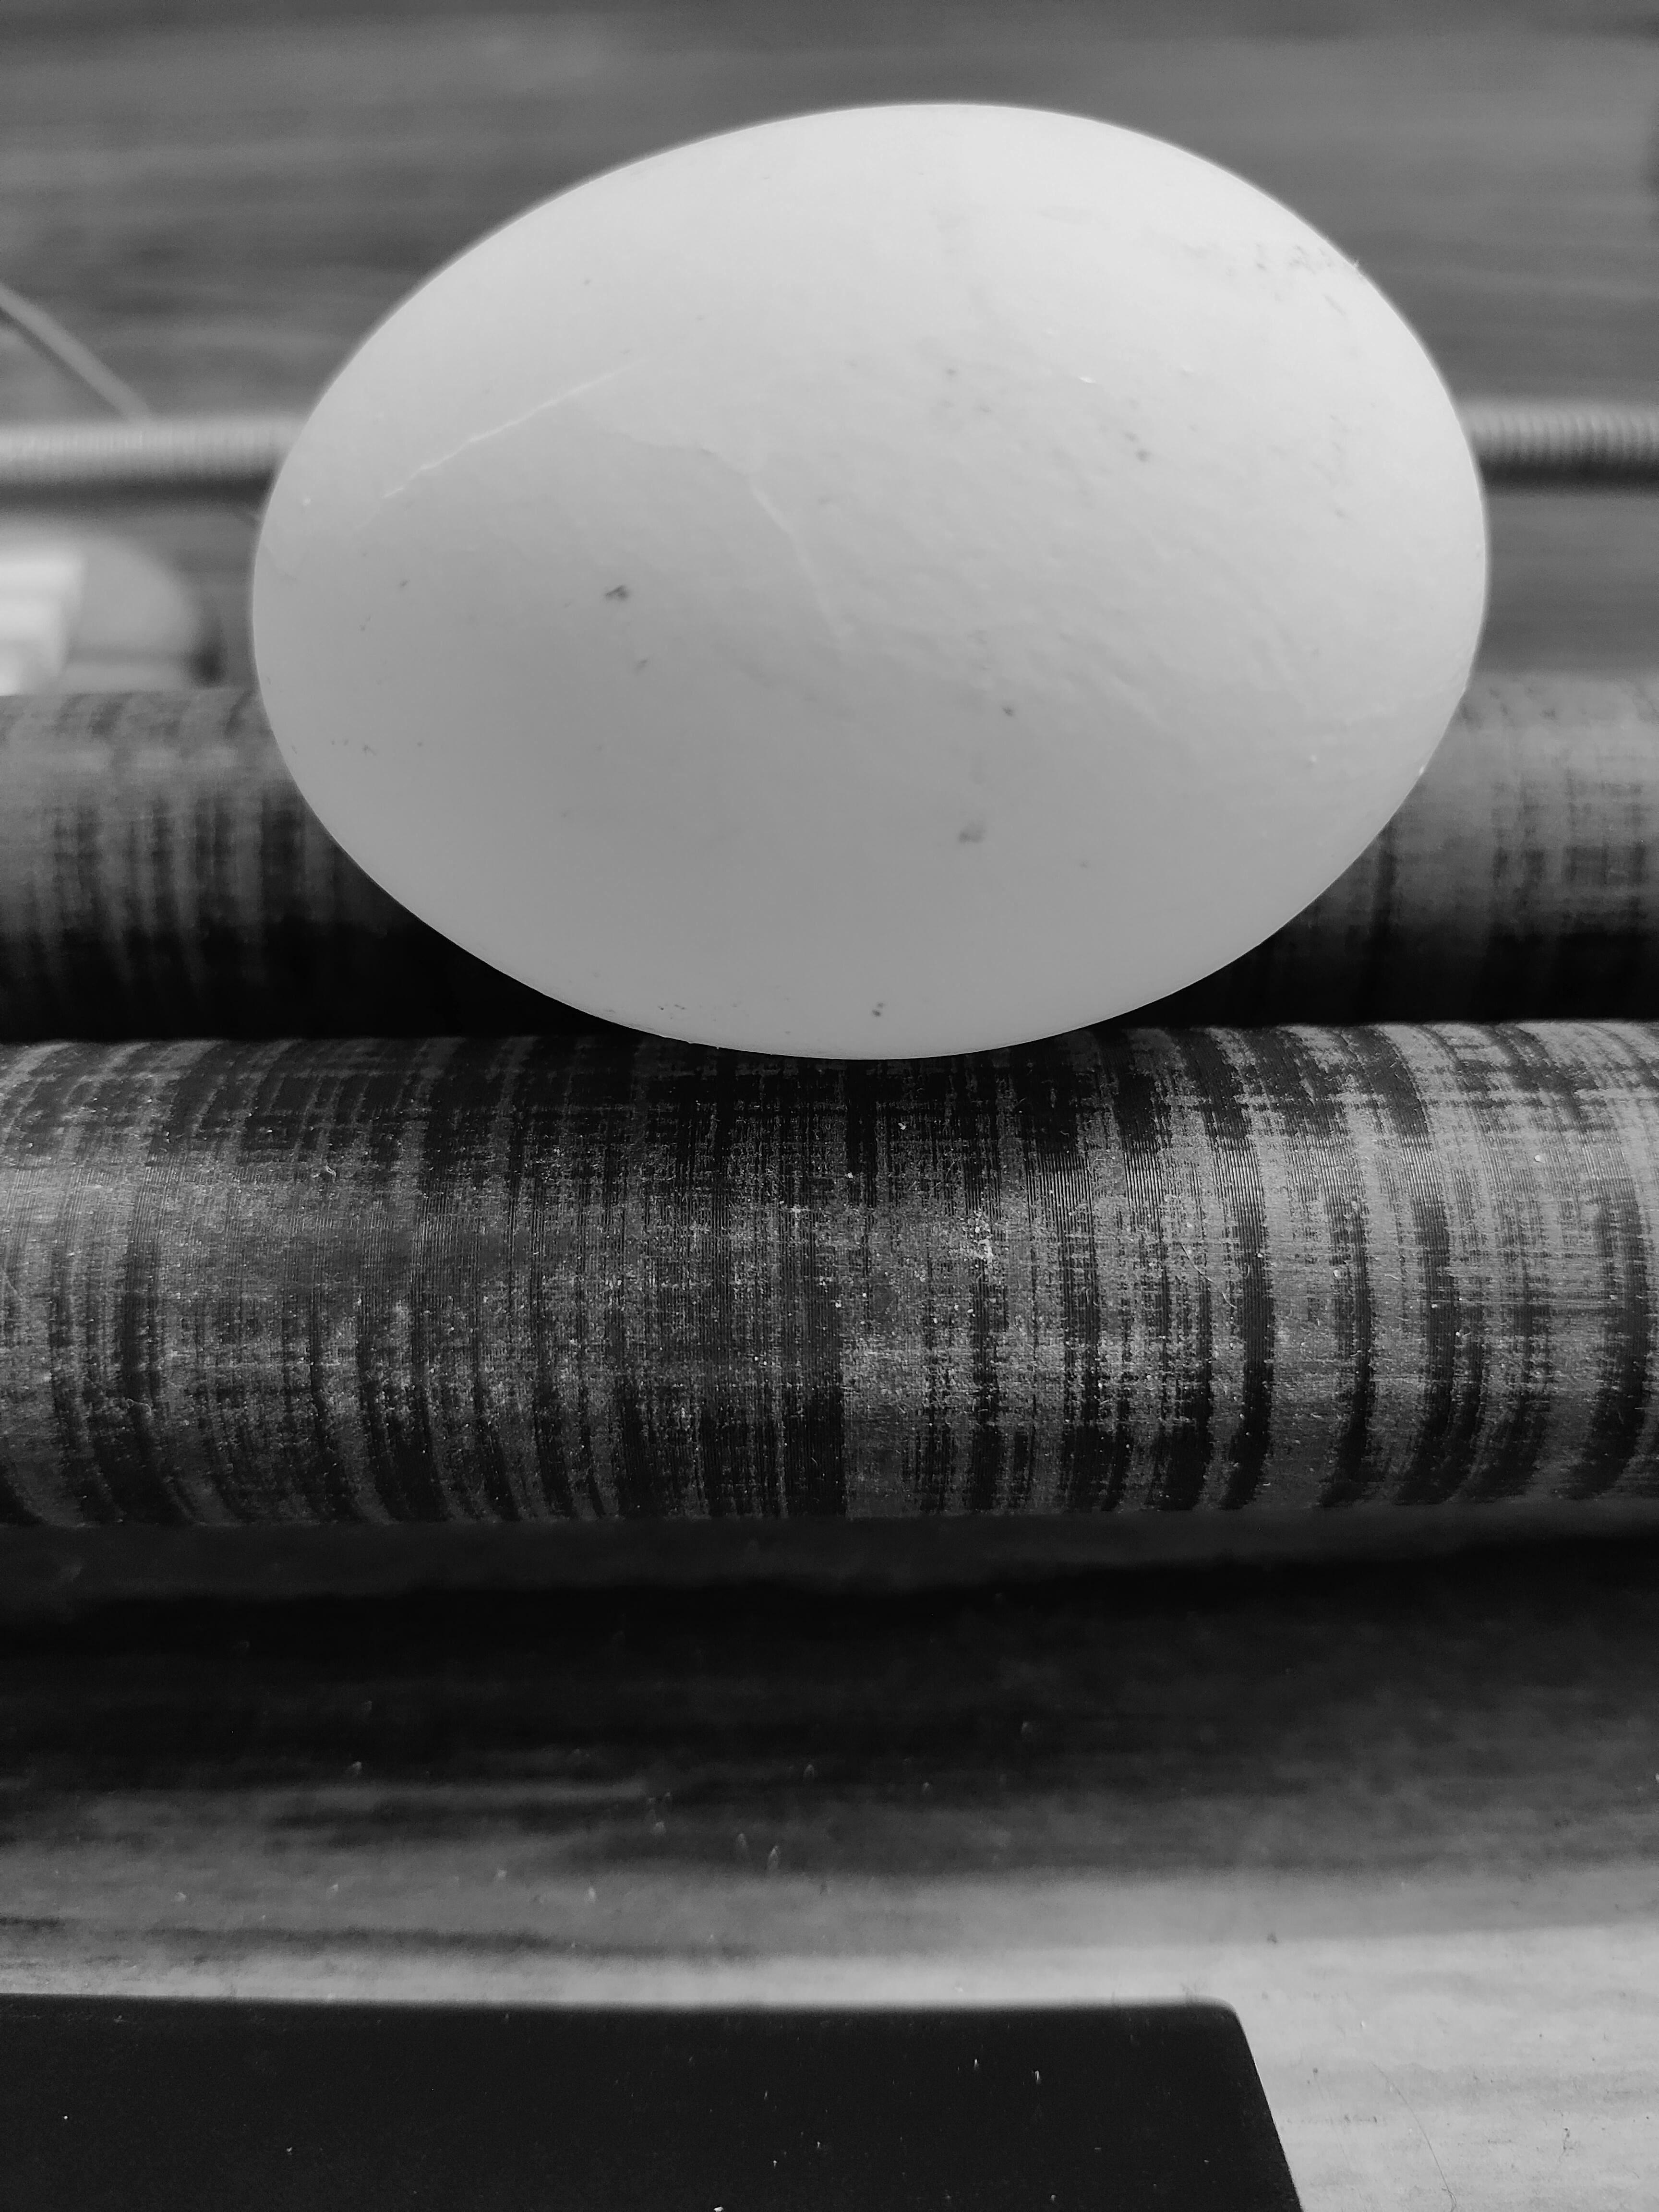telur: (230, 78, 1525, 1080)
